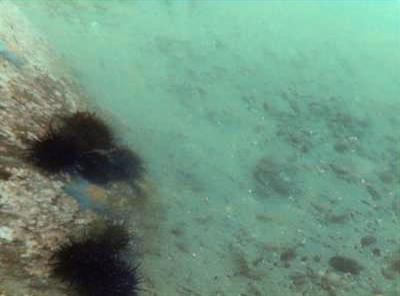urchin: (53, 236, 136, 296), (37, 125, 82, 173), (65, 103, 114, 146), (77, 148, 115, 186), (107, 140, 142, 178), (93, 219, 133, 250)
